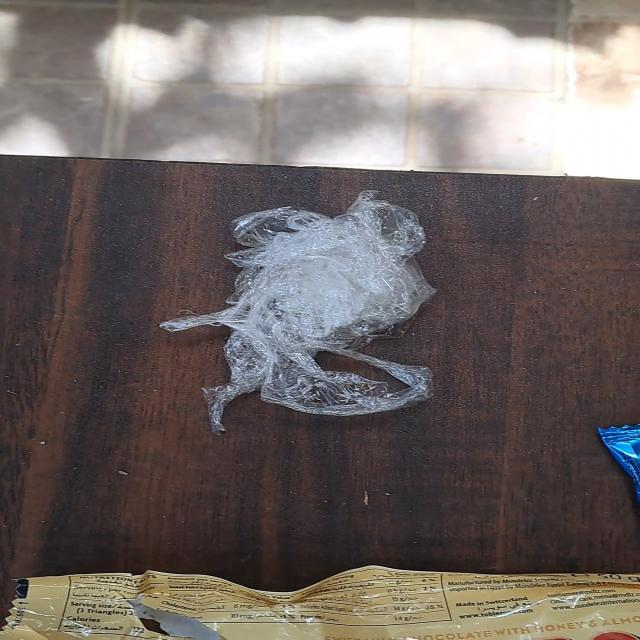Anorganik: (169, 180, 459, 433)
